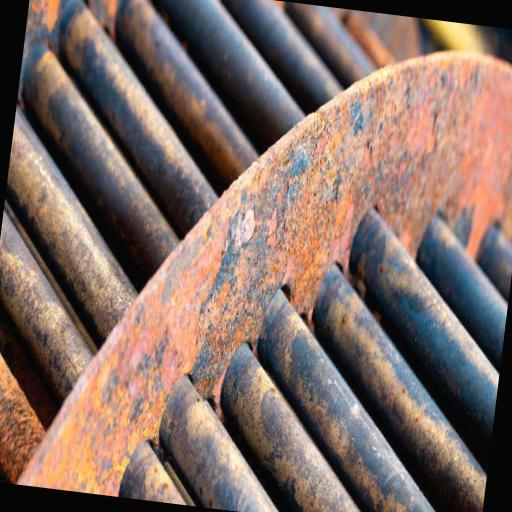corrosion: (291, 270, 503, 512), (0, 356, 44, 483)
